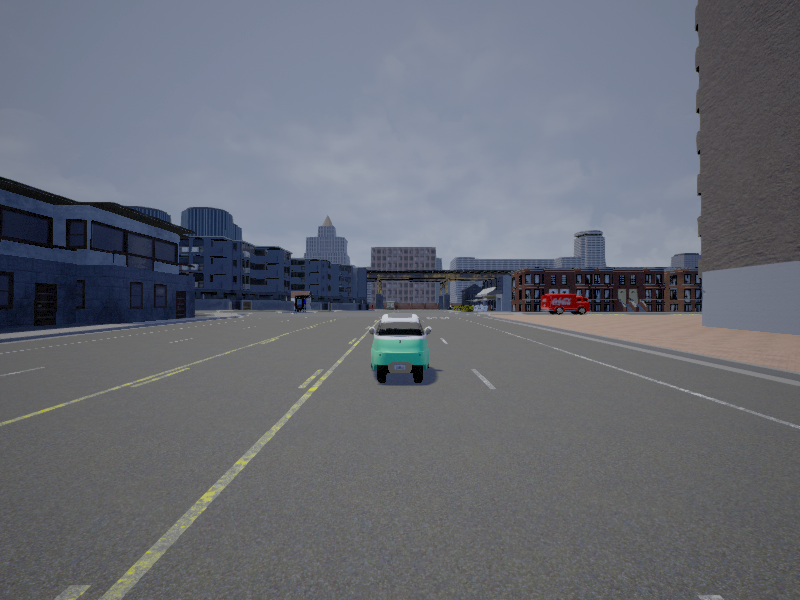Benign: (369, 314, 432, 384), (541, 294, 590, 315)
